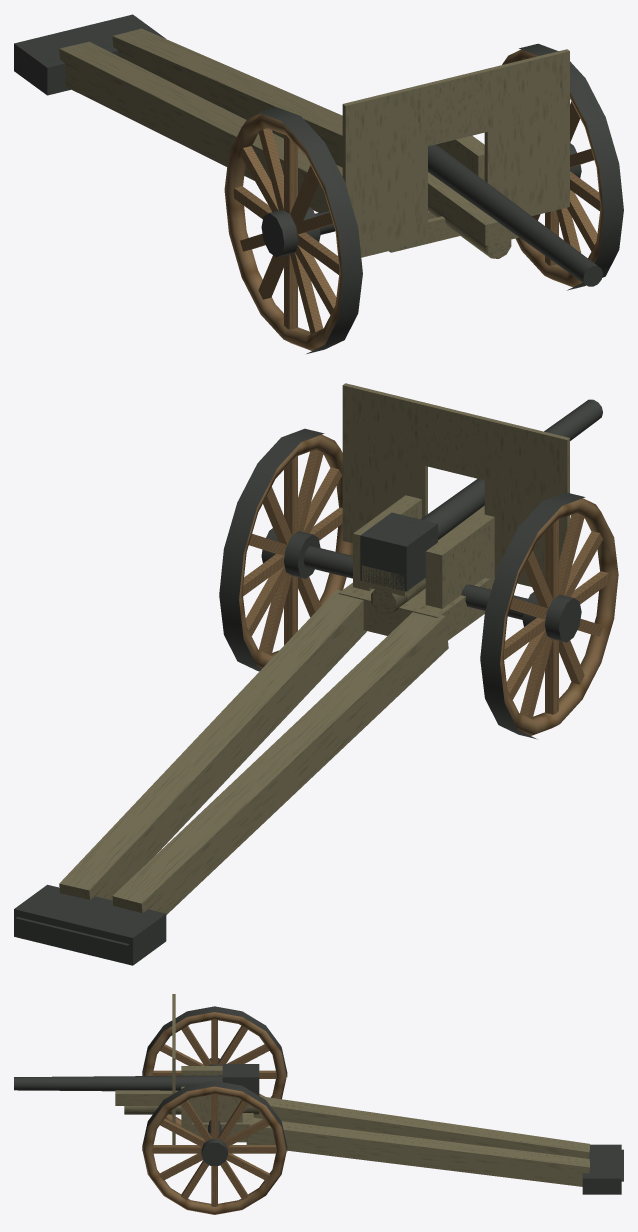
Rendered from artillery.glb.
The picture shows the model from 3 angles, top to bottom: view 1: azimuth 30°, elevation 25°; view 2: azimuth 150°, elevation 25°; view 3: azimuth 270°, elevation 25°; orthographic projection. The views are drawn at different scales.
Visible parts, largest first — view 1: shield, wheels_right, trail_right, trail_left, wheels_left, barrel, carriage; view 2: trail_right, trail_left, shield, wheels_right, wheels_left, carriage, barrel; view 3: trail_left, wheels_left, trail_right, wheels_right, barrel, carriage, shield.
Part boxes in pixels (x1,y1,x2,y2): shield: (342,49,569,257); wheels_right: (224,107,362,353); trail_right: (14,28,342,212); trail_left: (67,14,342,167); wheels_left: (502,43,623,290); barrel: (428,144,602,286); carriage: (315,135,484,252); trail_right: (67,612,448,965); trail_left: (14,589,366,952); shield: (342,383,569,586); wheels_right: (480,492,618,739); wheels_left: (219,428,352,671); carriage: (303,495,527,640); barrel: (360,399,602,615); trail_left: (246,1118,623,1194); wheels_left: (142,1081,287,1214); trail_right: (253,1096,623,1164); wheels_right: (142,1006,287,1126); barrel: (14,1064,259,1114); carriage: (181,1066,253,1142); shield: (172,994,175,1144).
Bounding box in the file's own units: 1.8 × 1.5 × 5.47.
3 materials, 3 textured.
